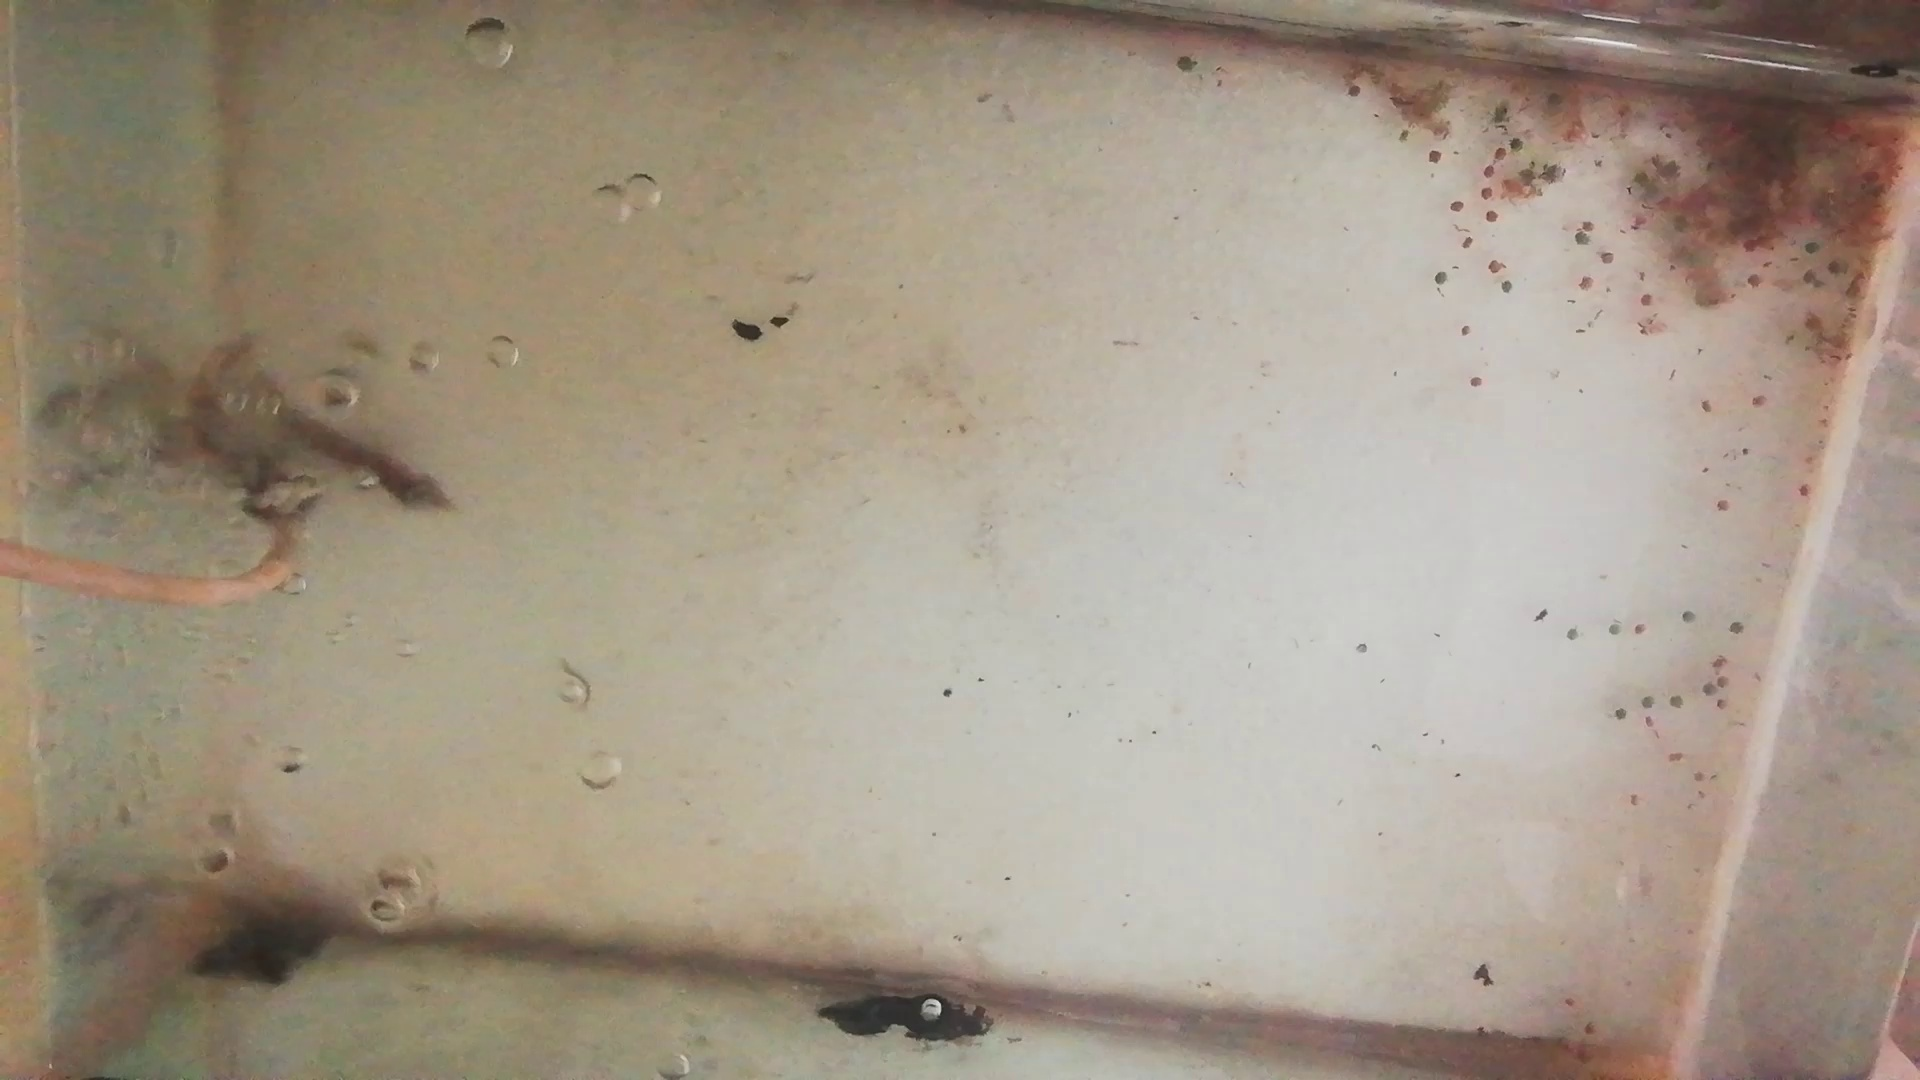fish: (272, 410, 454, 518), (185, 334, 284, 498)
